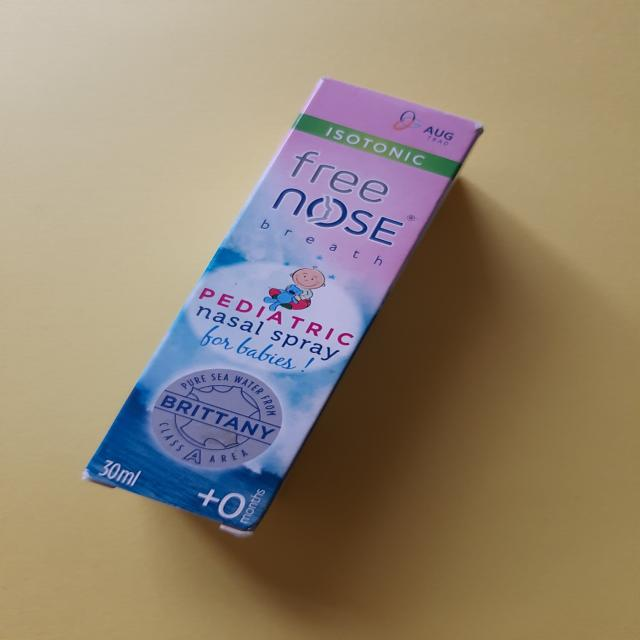Free Nose: (62, 70, 490, 552)
